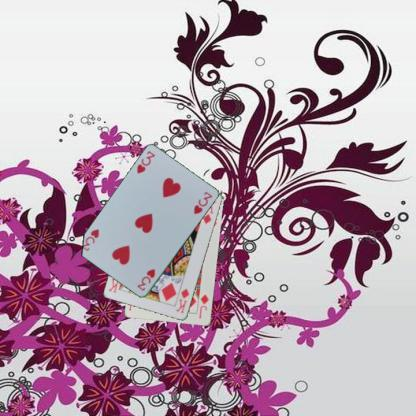3h: (134, 149, 157, 175), (134, 266, 156, 292)
Jd: (196, 292, 210, 319)
Kd: (173, 286, 191, 314)
